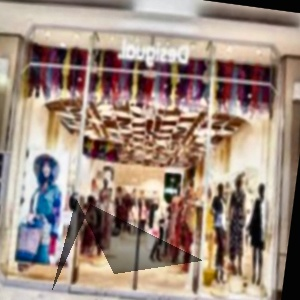desigual: (136, 12, 264, 68)
